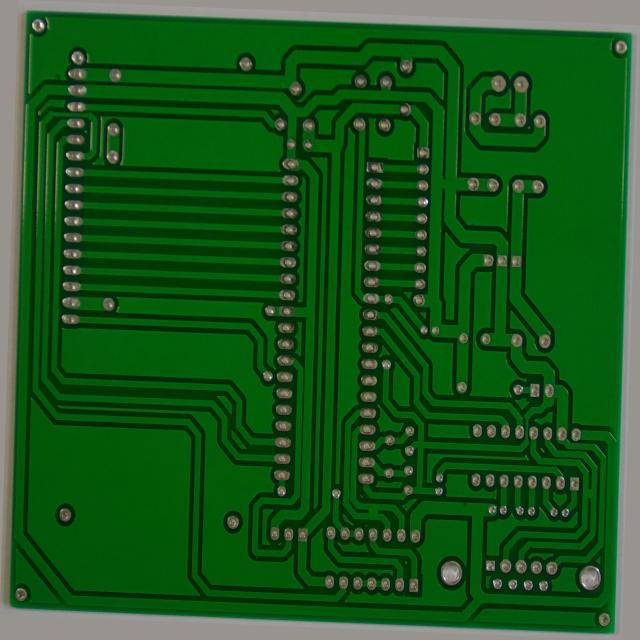short: (429, 160, 459, 189), (369, 504, 392, 528), (593, 479, 612, 500)
